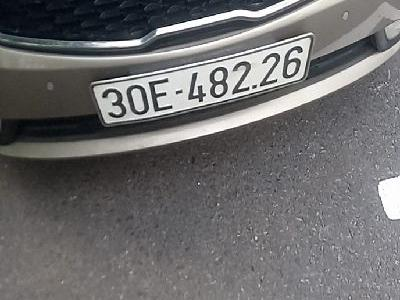number: (93, 34, 314, 126)
